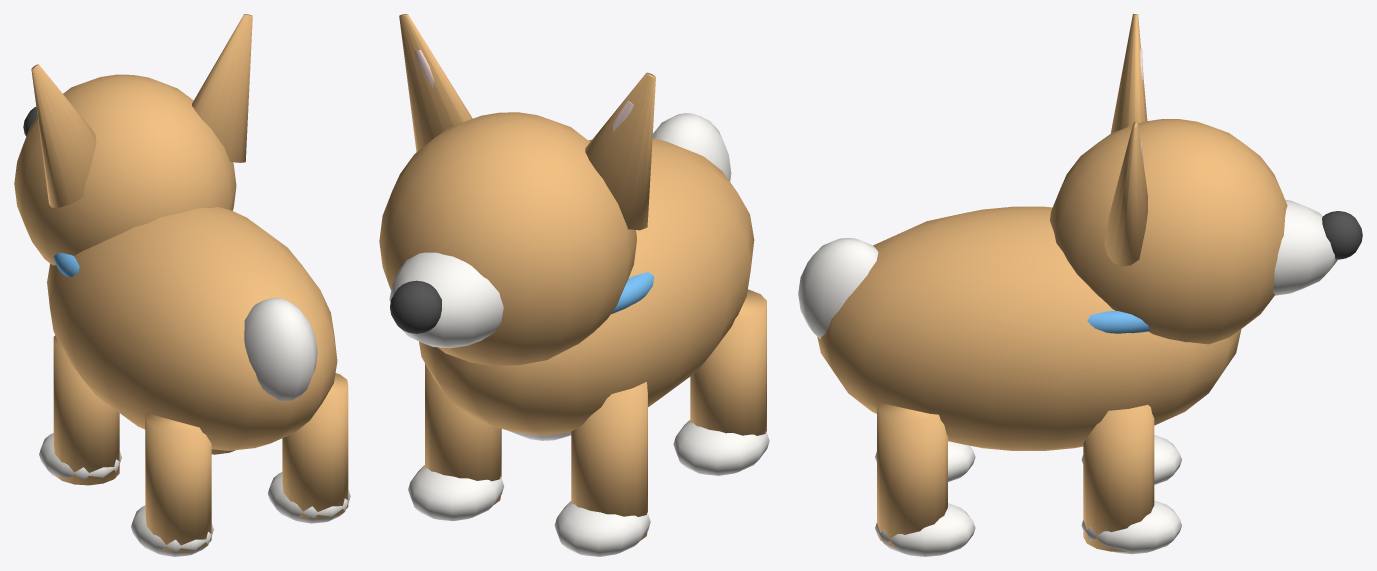
File: stylized_milo_hero.glb
The picture shows the model from 3 angles, left to right: view 1: azimuth 30°, elevation 25°; view 2: azimuth 150°, elevation 25°; view 3: azimuth 270°, elevation 25°; orthographic projection. The views are drawn at different scales.
Parts seen in each view (by area): view 1: Sphere, Sphere.002, Cylinder.002, Cylinder.003, Cylinder, Sphere.013, Cone, Cone.002, Sphere.011, Sphere.012, Sphere.009, Torus; view 2: Sphere.002, Sphere, Cylinder, Cylinder.002, Sphere.003, Cone, Cylinder.001, Cone.002, Sphere.009, Sphere.011, Sphere.010, Sphere.013 (+2 smaller); view 3: Sphere, Sphere.002, Cylinder.003, Cylinder.001, Sphere.013, Sphere.003, Cone.002, Sphere.012, Sphere.010, Cone, Sphere.004, Torus (+2 smaller).
Part boxes in pixels (x1,y1,x2,y2): Sphere: (47,207,337,450); Sphere.002: (14,74,236,265); Cylinder.002: (145,412,211,552); Cylinder.003: (282,373,348,518); Cylinder: (53,335,119,485); Sphere.013: (244,297,317,401); Cone: (31,64,96,207); Cone.002: (192,14,252,162); Sphere.011: (131,505,213,556); Sphere.012: (268,472,350,523); Sphere.009: (39,433,121,480); Torus: (53,253,79,276); Sphere.002: (379,112,636,365); Sphere: (419,138,754,435); Cylinder: (571,382,647,540); Cylinder.002: (690,289,766,435); Sphere.003: (389,252,503,348); Cone: (585,72,655,230); Cylinder.001: (425,363,501,504); Cone.002: (399,14,472,152); Sphere.009: (554,501,650,556); Sphere.011: (673,420,769,475); Sphere.010: (408,465,504,521); Sphere.013: (652,113,731,181); Sphere: (817,206,1241,450); Sphere.002: (1050,119,1287,344); Cylinder.003: (877,402,947,546); Cylinder.001: (1083,405,1154,551); Sphere.013: (798,238,878,339); Sphere.003: (1273,199,1337,295); Cone.002: (1104,121,1147,266); Sphere.012: (875,503,975,556); Sphere.010: (1081,500,1181,554); Cone: (1110,14,1147,133); Sphere.004: (1322,211,1362,259); Torus: (1087,311,1150,333).
Bounding box in the file's own units: 0.4201 × 0.7648 × 0.875.
